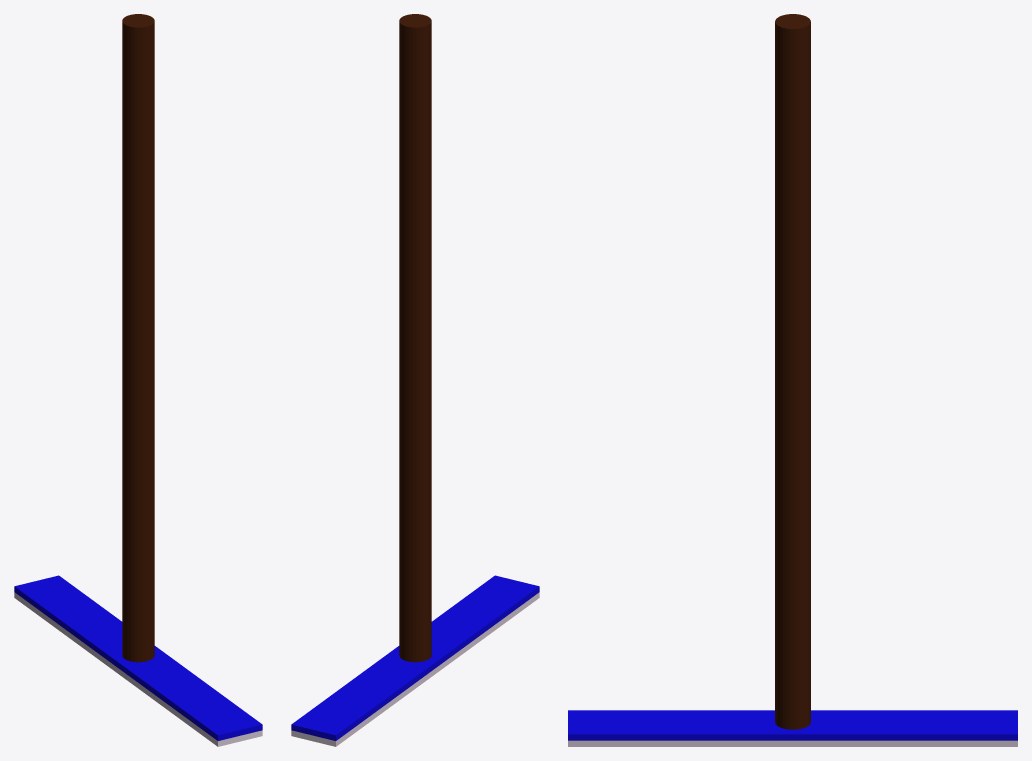
File: Magav.fbx
3 views of the same model, side by side, from view 1: azimuth 30°, elevation 25°; view 2: azimuth 150°, elevation 25°; view 3: azimuth 270°, elevation 25° (orthographic). The views are drawn at different scales.
Visible parts, largest first — view 1: Cylinder, Cube, Cube.001; view 2: Cylinder, Cube, Cube.001; view 3: Cylinder, Cube, Cube.001.
Part boxes in pixels (box(x1,y1,x2,y2)): Cylinder: box(122, 14, 154, 662); Cube: box(14, 575, 262, 740); Cube.001: box(14, 592, 262, 746); Cylinder: box(399, 14, 431, 662); Cube: box(291, 575, 539, 740); Cube.001: box(291, 592, 539, 746); Cylinder: box(775, 14, 810, 729); Cube: box(568, 710, 1017, 740); Cube.001: box(568, 740, 1017, 746).
Size of the model in its own units: 14.59 by 202 by 116.
